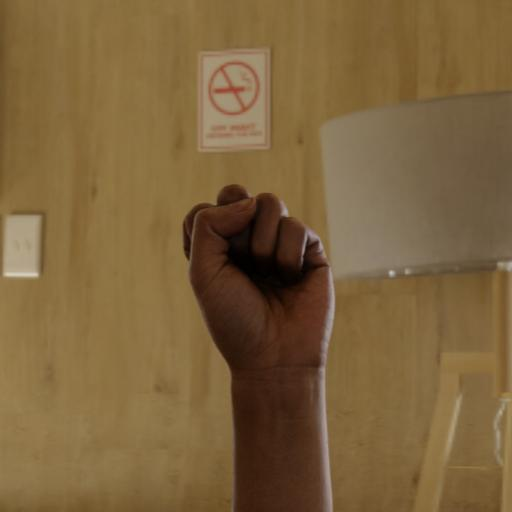S: (176, 180, 344, 370)
